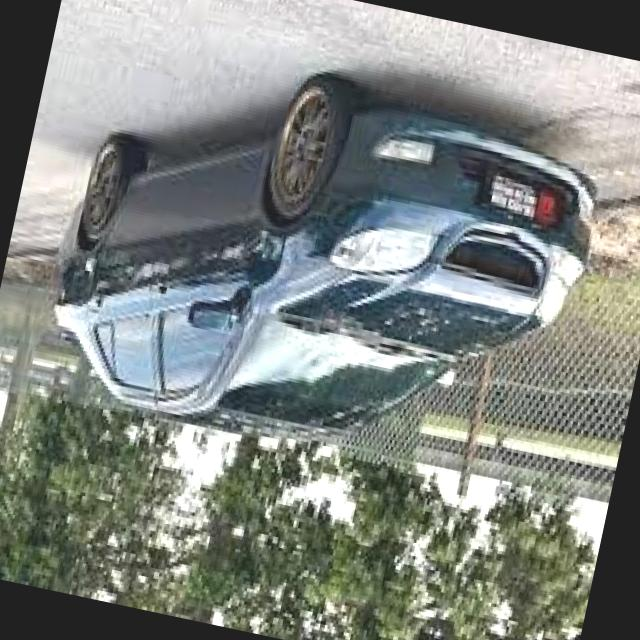ToyotaVios: (28, 27, 616, 498)
